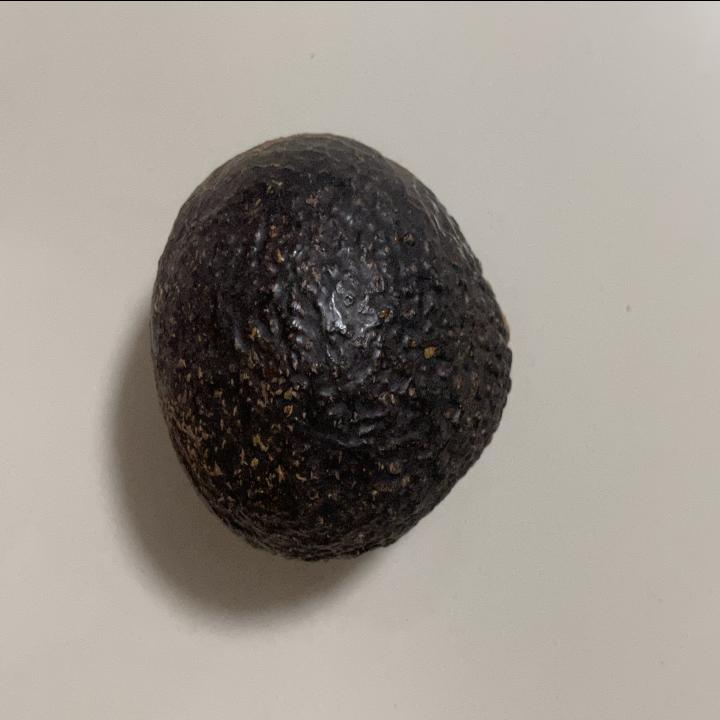Level3: (144, 122, 524, 572)
